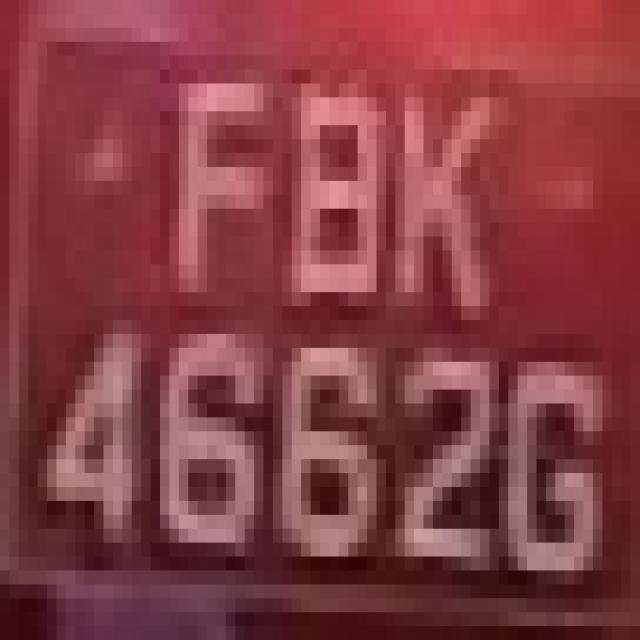2: (376, 306, 489, 598)
4: (28, 278, 160, 598)
6: (141, 292, 254, 584), (292, 306, 367, 598)
B: (282, 56, 386, 334)
F: (151, 28, 273, 292)
G: (489, 292, 612, 626)
K: (386, 70, 518, 362)
